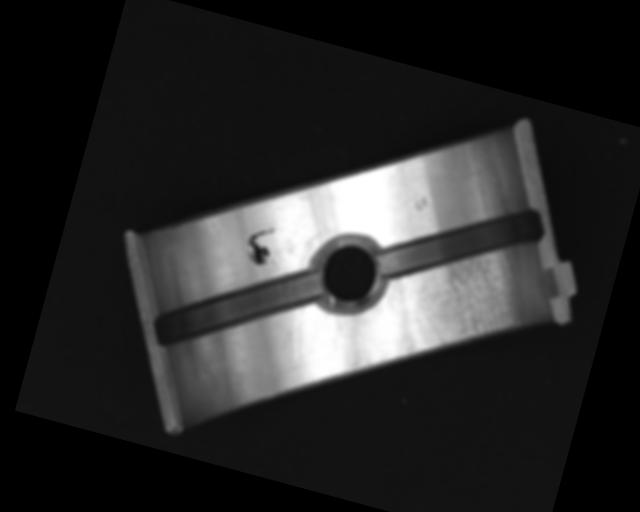blot: (240, 221, 278, 270)
bruise: (411, 191, 433, 214)
gap: (144, 236, 323, 381), (377, 175, 547, 310)
hole: (300, 225, 394, 322)
nick: (285, 320, 307, 364)
scratch: (400, 236, 535, 368)
